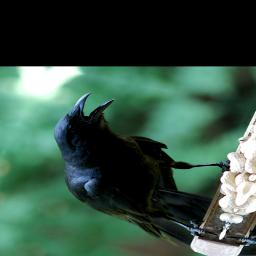Crow: (9, 89, 256, 252)
